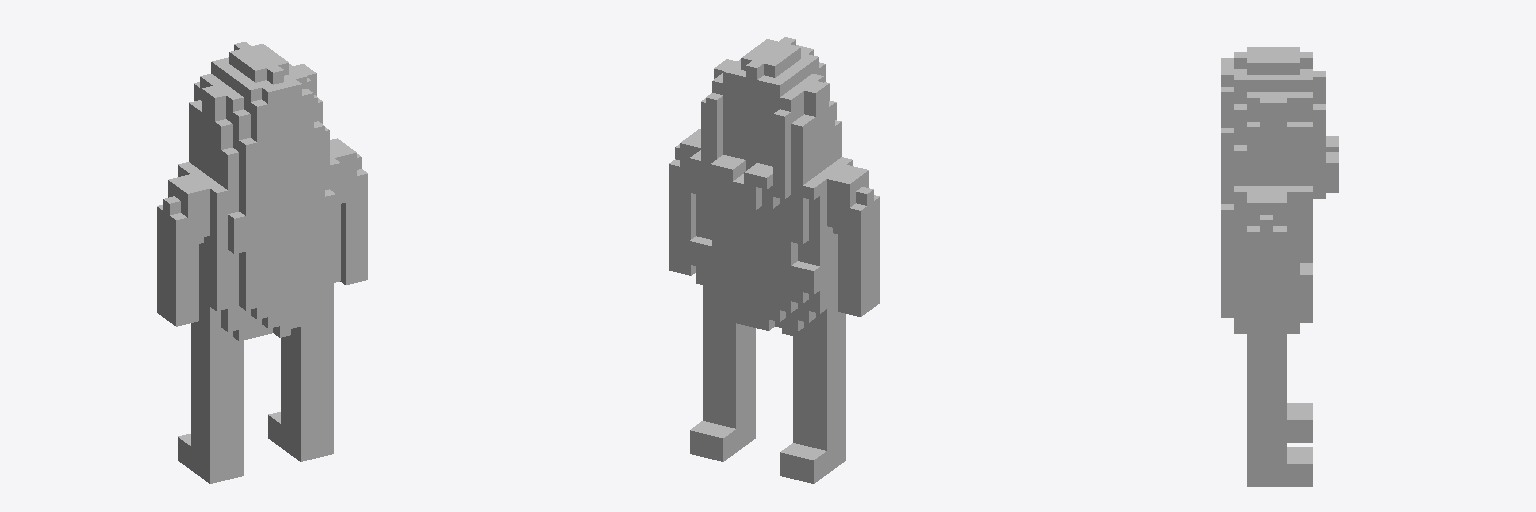
File: hipsterstyle.obj
3 views of the same model, side by side, from view 1: azimuth 30°, elevation 25°; view 2: azimuth 150°, elevation 25°; view 3: azimuth 270°, elevation 25° (orthographic).
Bounding box in the file's own units: 17 × 34 × 9.